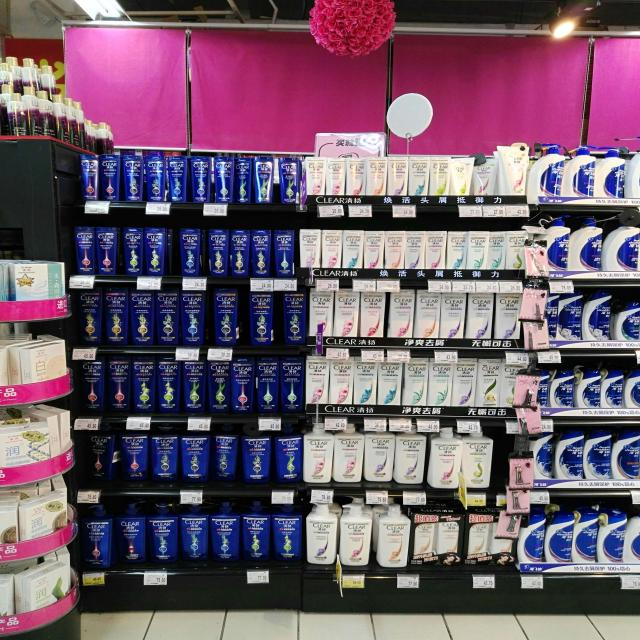empty: (491, 425, 512, 486)
